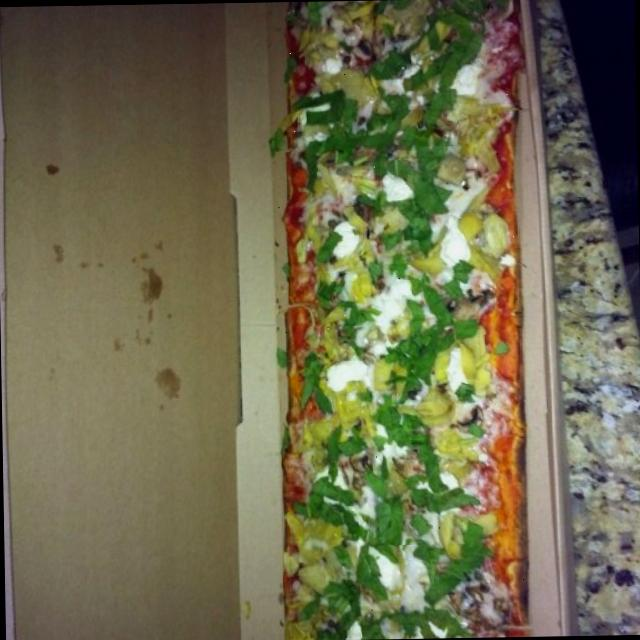basil: (379, 157, 456, 263), (407, 8, 482, 106), (290, 462, 362, 540), (402, 442, 479, 514), (380, 313, 448, 385), (290, 574, 362, 638), (356, 84, 418, 156), (305, 271, 376, 325), (298, 84, 364, 134), (294, 346, 334, 422), (369, 487, 414, 544), (374, 408, 434, 444)
cheese: (371, 154, 416, 210), (433, 215, 476, 268), (369, 278, 412, 330), (328, 344, 374, 392), (442, 56, 488, 104), (330, 205, 363, 269), (372, 544, 405, 590)
mushrooms: (442, 555, 509, 625), (441, 271, 496, 334), (439, 398, 494, 442), (330, 25, 384, 66), (417, 92, 458, 145), (335, 440, 384, 484), (310, 131, 358, 170), (447, 150, 488, 193), (388, 383, 428, 406)
pizza: (284, 0, 526, 636)
